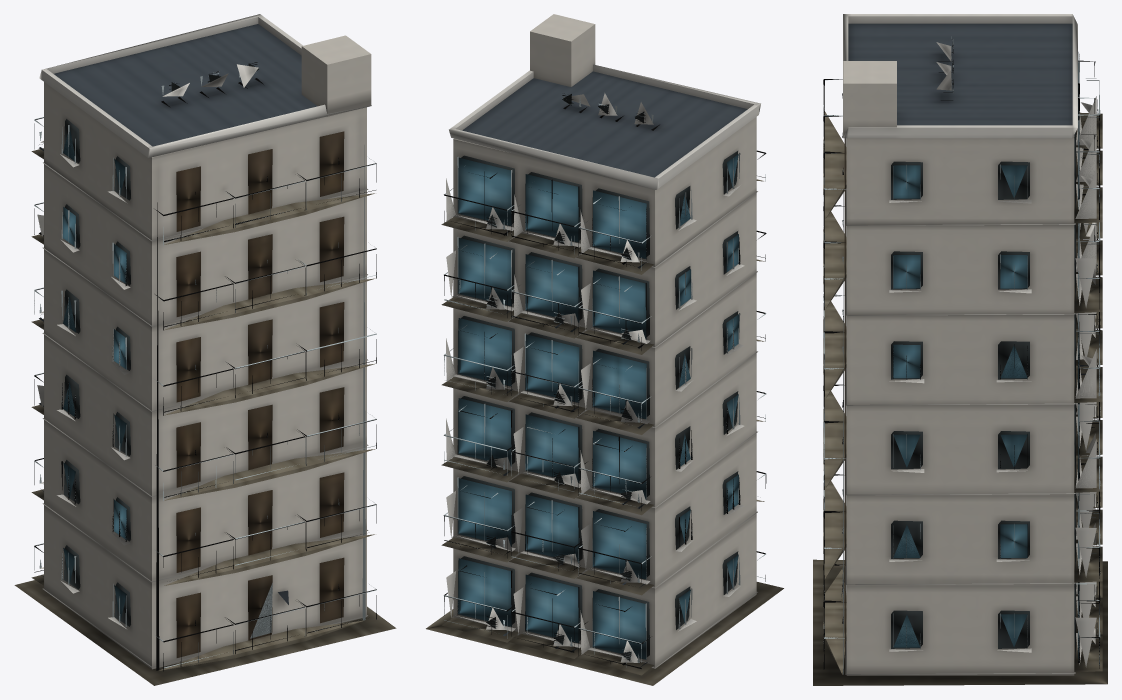
File: residential_017.obj
The picture shows the model from 3 angles, left to right: view 1: azimuth 30°, elevation 25°; view 2: azimuth 150°, elevation 25°; view 3: azimuth 270°, elevation 25°; orthographic projection. The views are drawn at different scales.
Visible parts, largest first — view 1: residential_017; view 2: residential_017; view 3: residential_017.
Part boxes in pixels (<box>): residential_017: <box>14,14,396,685</box>; residential_017: <box>426,14,783,685</box>; residential_017: <box>813,14,1107,685</box>.
Bounding box in the file's own units: 8.8 × 19.66 × 8.8.
1 material, 1 textured.
